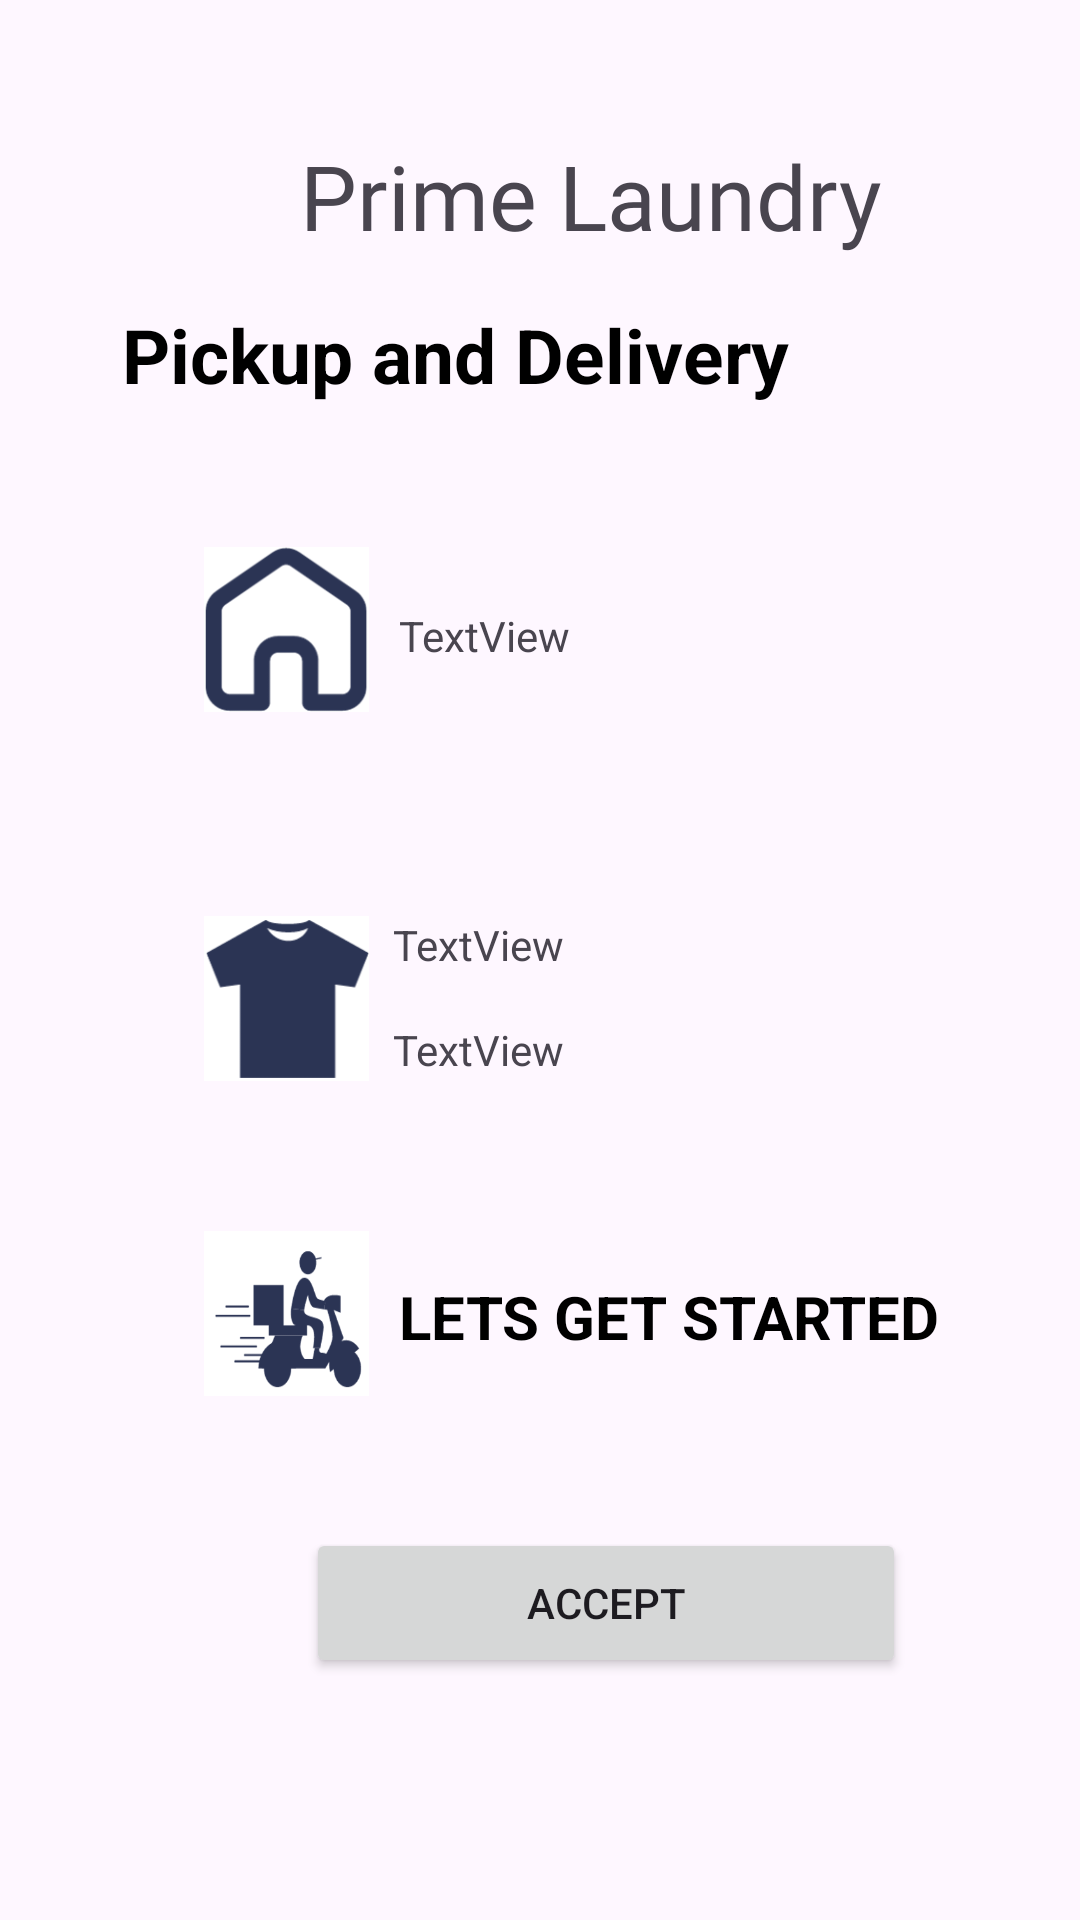

Screen size 1080 x 1920. Icon name, then its center in pixels as (x,y):
delivery: (288,1319)
home: (286,629)
shirt: (287,999)
